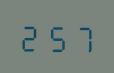five: (44, 19, 68, 53)
seven: (69, 20, 93, 53)
two: (18, 19, 42, 52)
